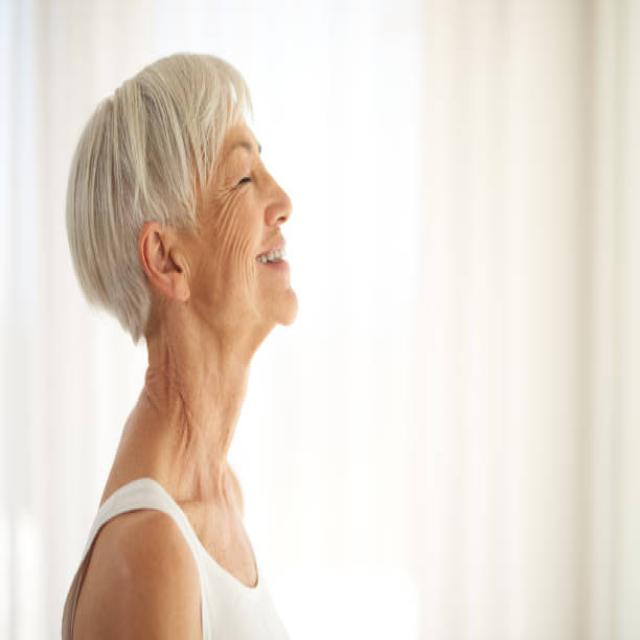Dry-Skin: (209, 187, 252, 304)
